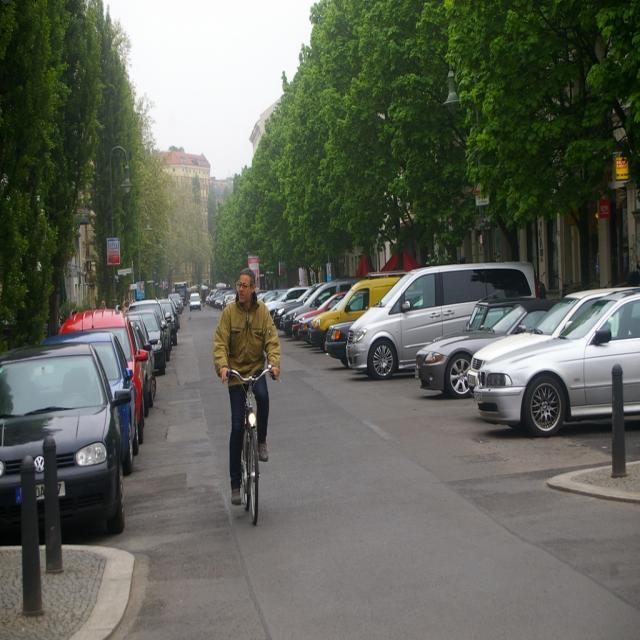car: (216, 360, 264, 522)
